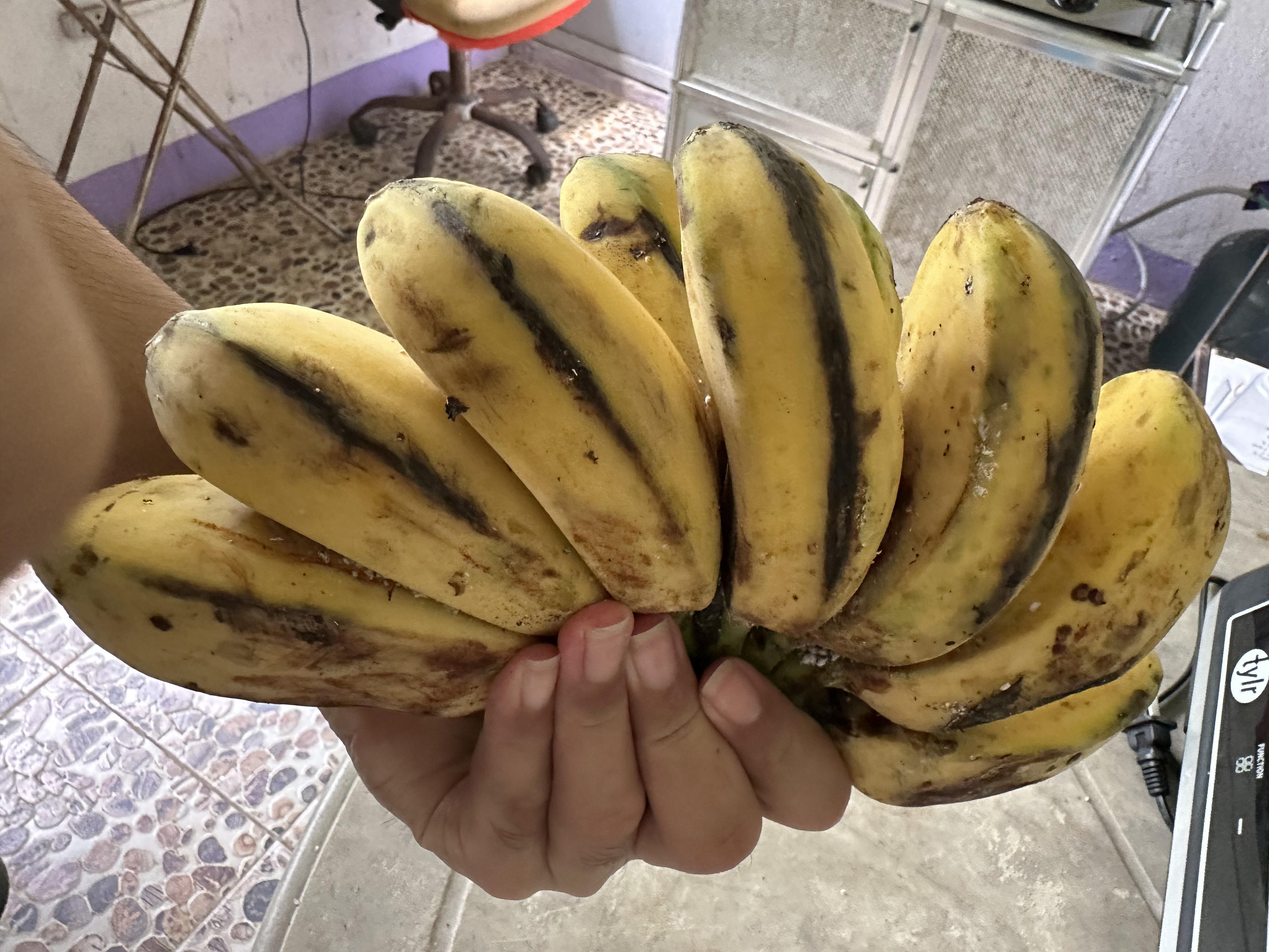ripe: (34, 124, 1229, 806)
